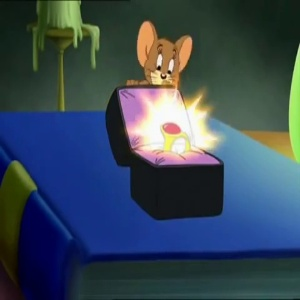Jerry: (135, 20, 194, 86)
